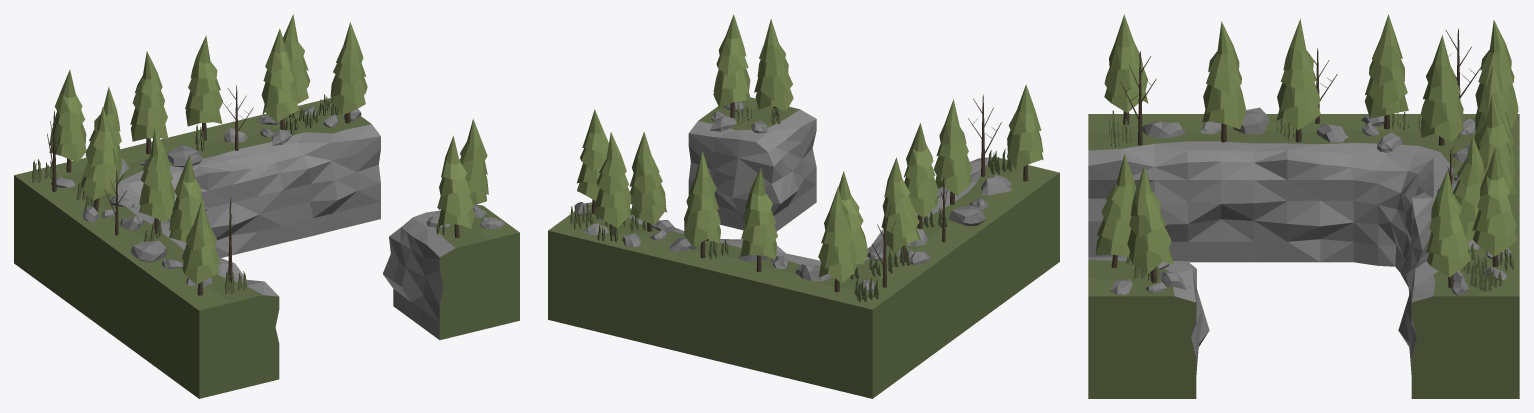
3 views of the same model, side by side, from view 1: azimuth 30°, elevation 25°; view 2: azimuth 150°, elevation 25°; view 3: azimuth 270°, elevation 25° (orthographic). The views are drawn at different scales.
Visible parts, largest first — view 1: Curve; view 2: Curve; view 3: Curve.
Part boxes in pixels (x1,y1,x2,y2): Curve: (14,14,519,398); Curve: (548,14,1059,398); Curve: (1088,14,1519,398).
Bounding box in the file's own units: 2 × 2 × 1.15.
